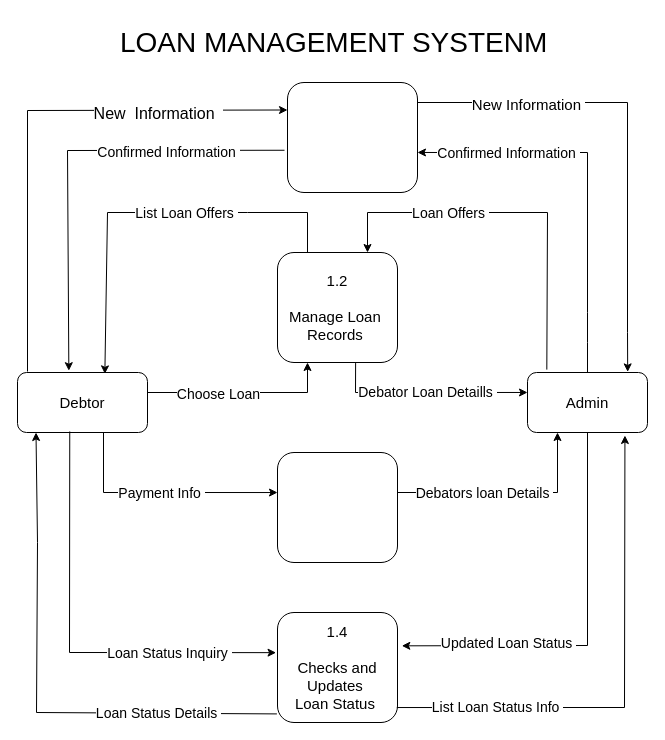
The diagram is 665 pixels wide and 740 high, and some of its shapes have lost their labels. Each missing label, with the centre of its shape:
1.1 Manage Debtor Information: the point at 352,137
1.3 Monitor Payments: the point at 337,507
